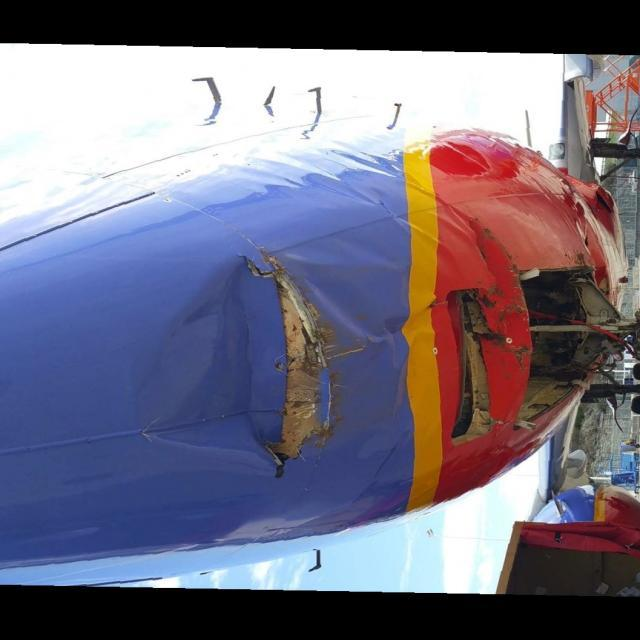crack: (229, 253, 277, 282)
